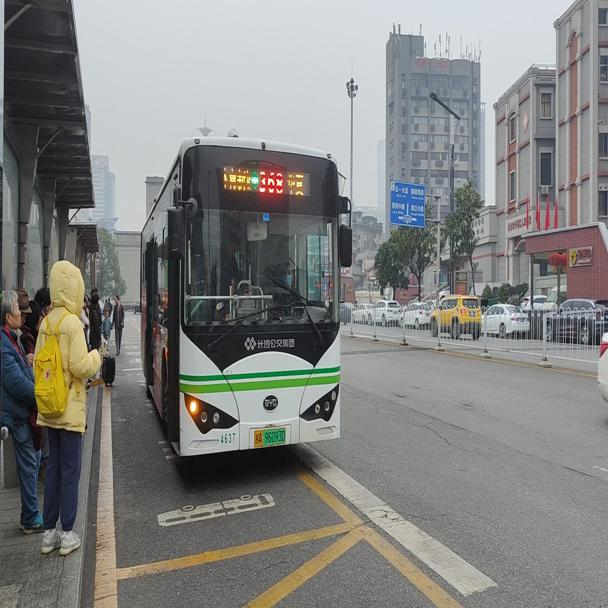bus: (138, 137, 352, 463)
screen: (257, 166, 282, 193)
